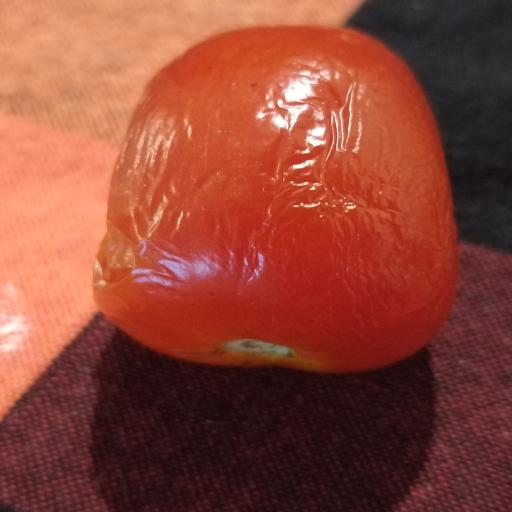spoiled: (94, 27, 458, 372)
